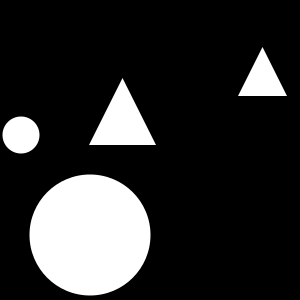rectangle: (30, 174, 150, 296), (3, 117, 40, 154)
triangle: (89, 78, 156, 145), (238, 47, 287, 96)
